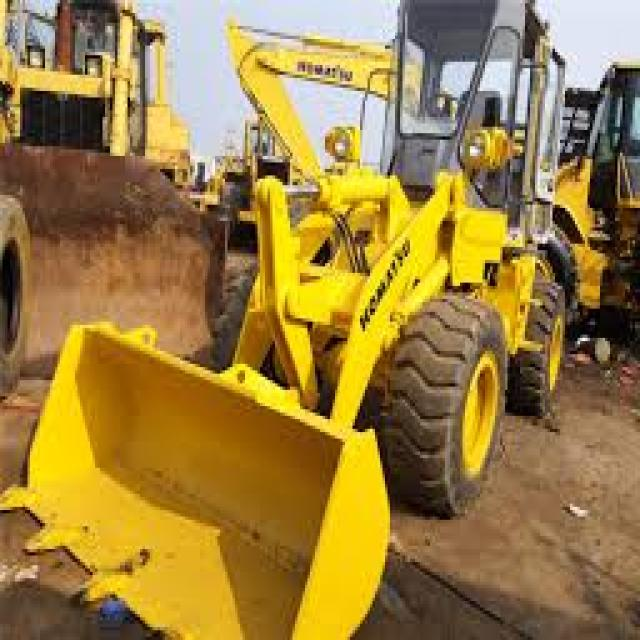buldozerpayloadergrader: (23, 1, 570, 640)
